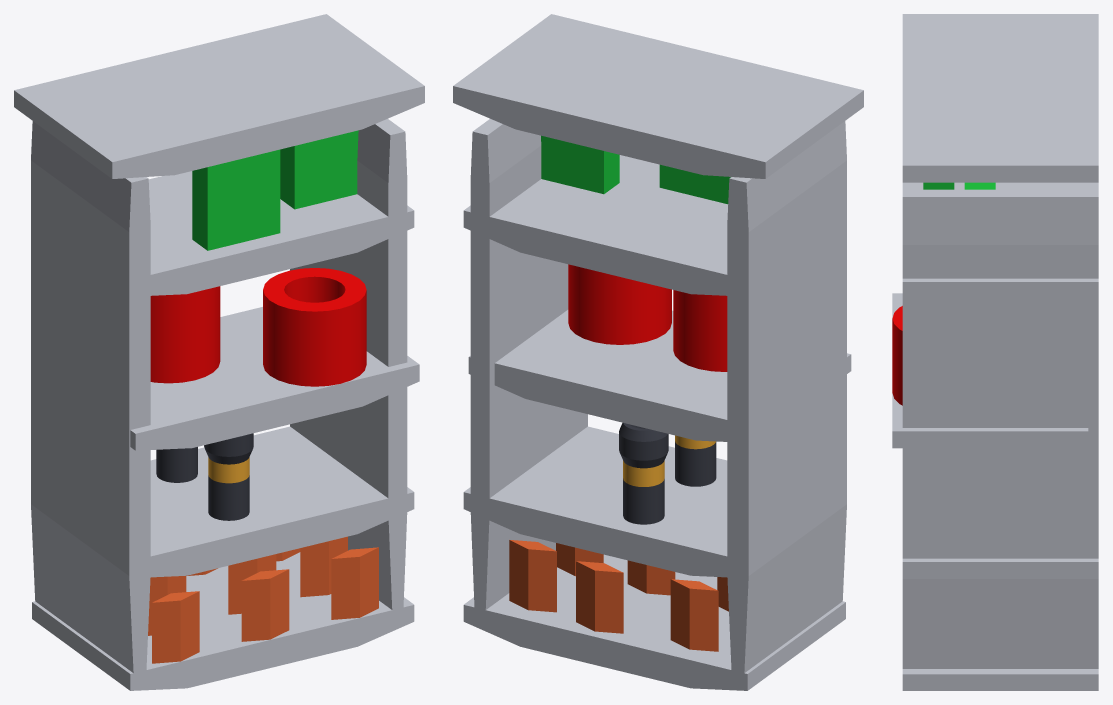
The model's file is convinience store shelf.fbx.
3 renders of one model, left to right at view 1: azimuth 30°, elevation 25°; view 2: azimuth 150°, elevation 25°; view 3: azimuth 270°, elevation 25°, orthographic.
Parts seen in each view (by area): view 1: mergedBlocks; view 2: mergedBlocks; view 3: mergedBlocks.
Boxes of the visible parts, x1,y1,x2,y2 form: mergedBlocks: (14,14,424,690); mergedBlocks: (453,14,863,690); mergedBlocks: (892,14,1098,690).
Size of the model in its own units: 34.85 by 58 by 20.
